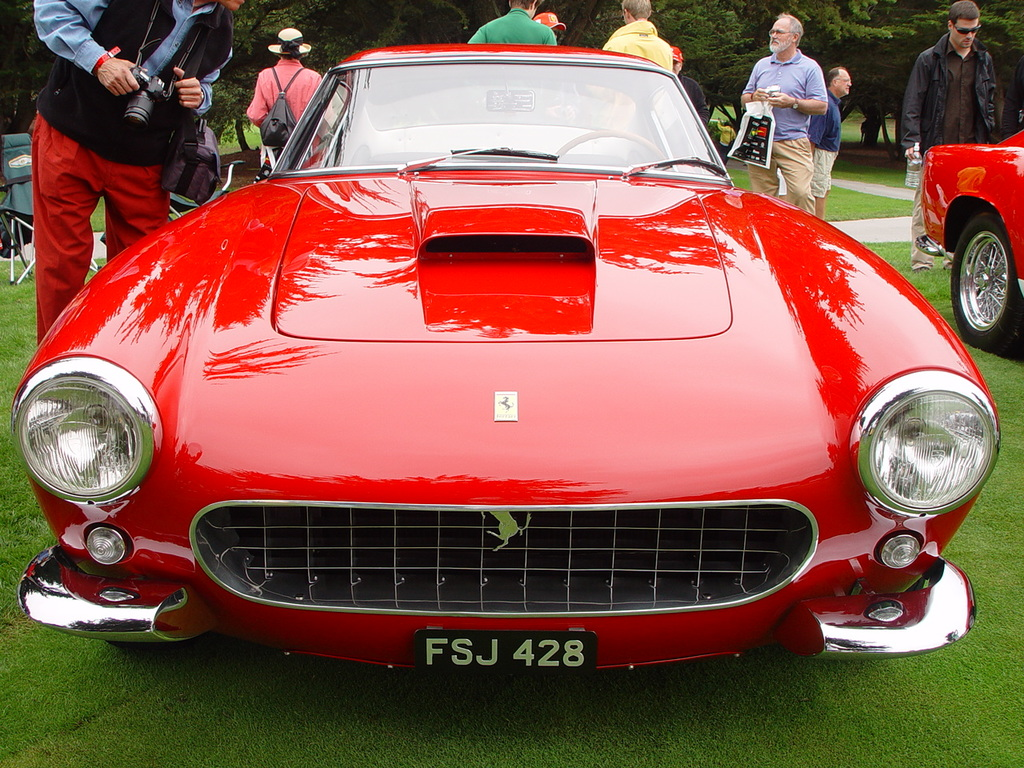Car: (11, 42, 1003, 662), (920, 124, 1023, 346)
